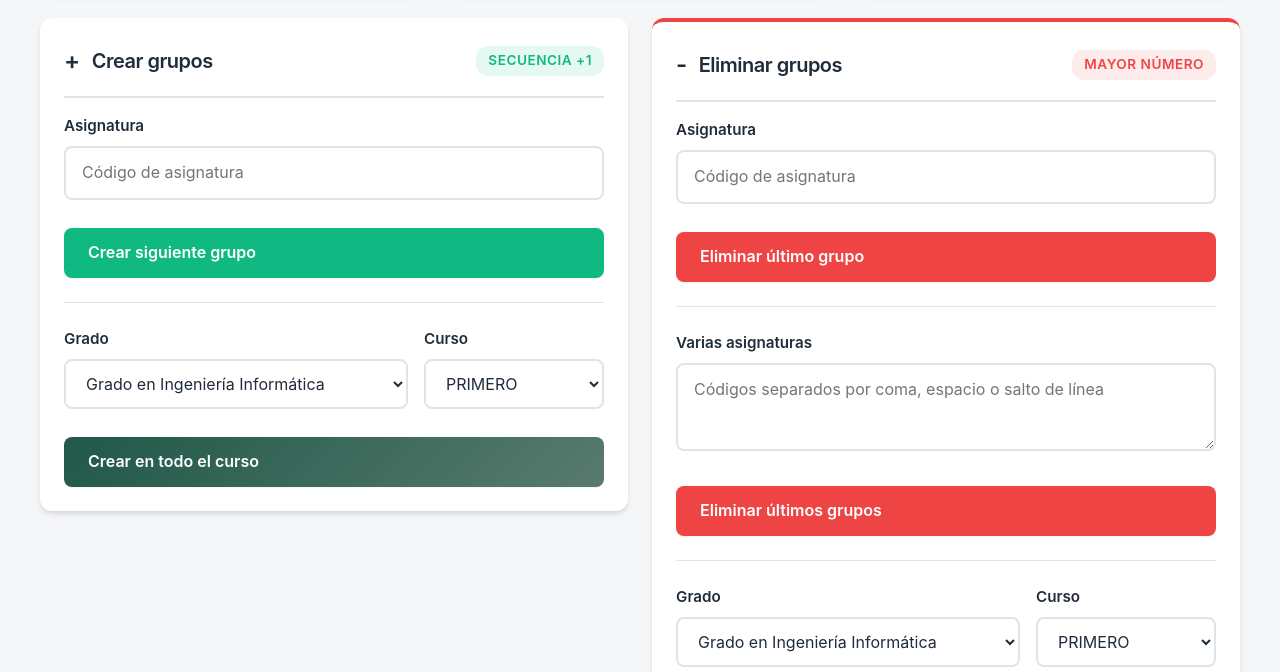
Test case: PanelGestionGrupos › elimina los últimos grupos de varias asignaturas tras confirmar
(page scrolled)
Type "2050001, 2050002" into the text box labelled "Varias asignaturas" at {"x": 946, "y": 407}, box x1=676 y1=363 x2=1216 y2=451
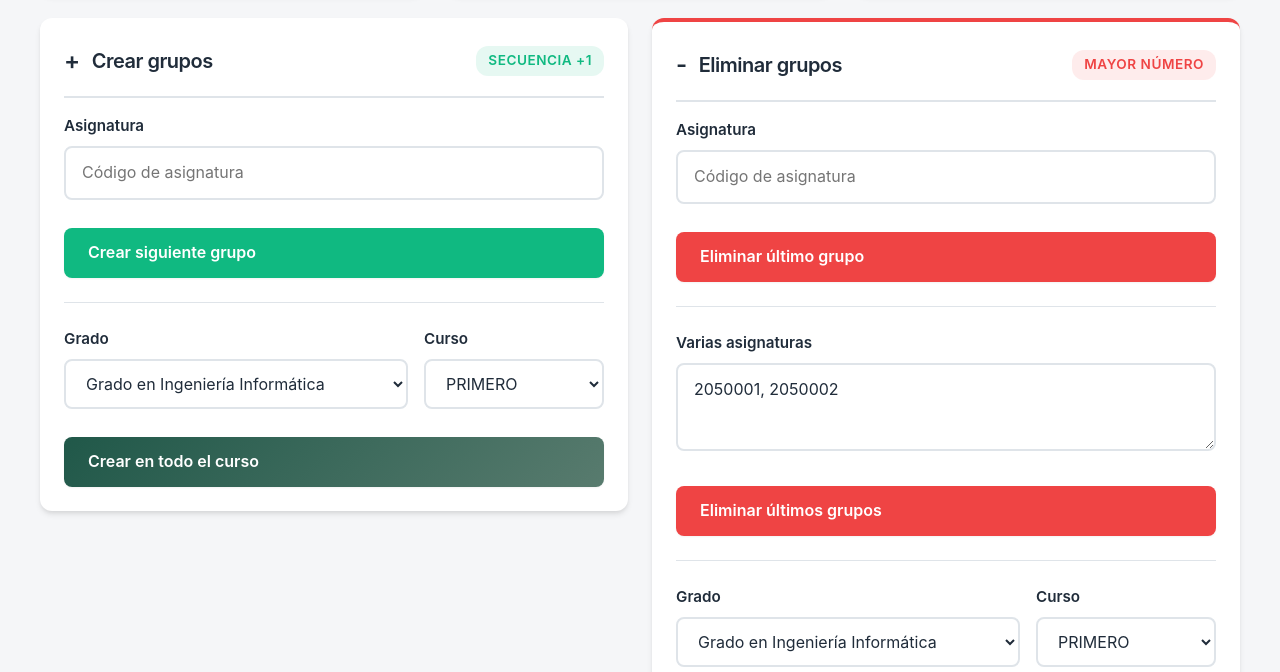
Click the button "Eliminar últimos grupos" at {"x": 791, "y": 510}, box x1=676 y1=486 x2=1216 y2=536
(page scrolled)
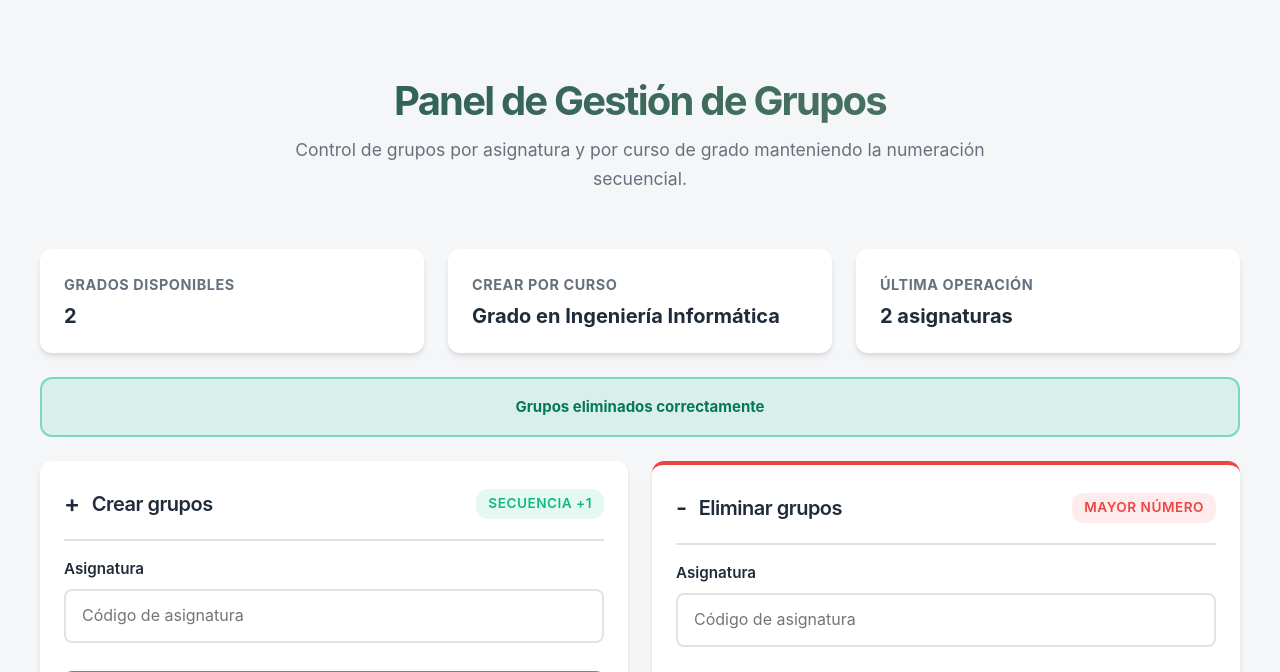
Expected: the text "Grupos eliminados correctamente" is shown, x1=40 y1=377 x2=1240 y2=437
